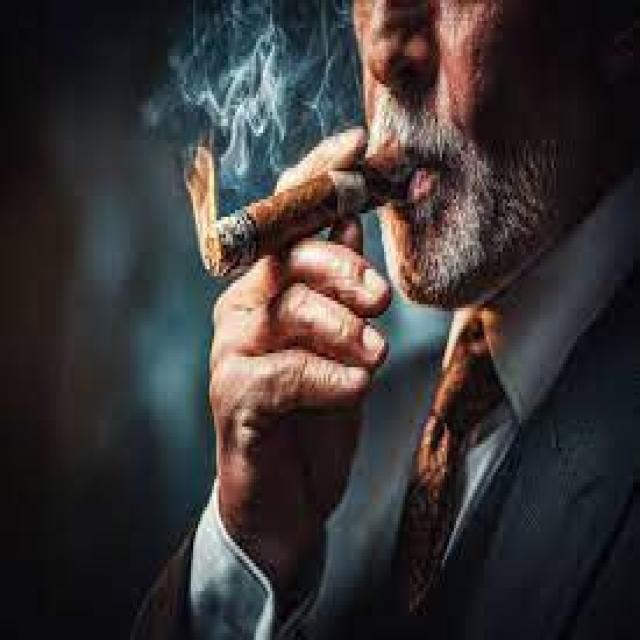fire: (184, 147, 231, 277)
